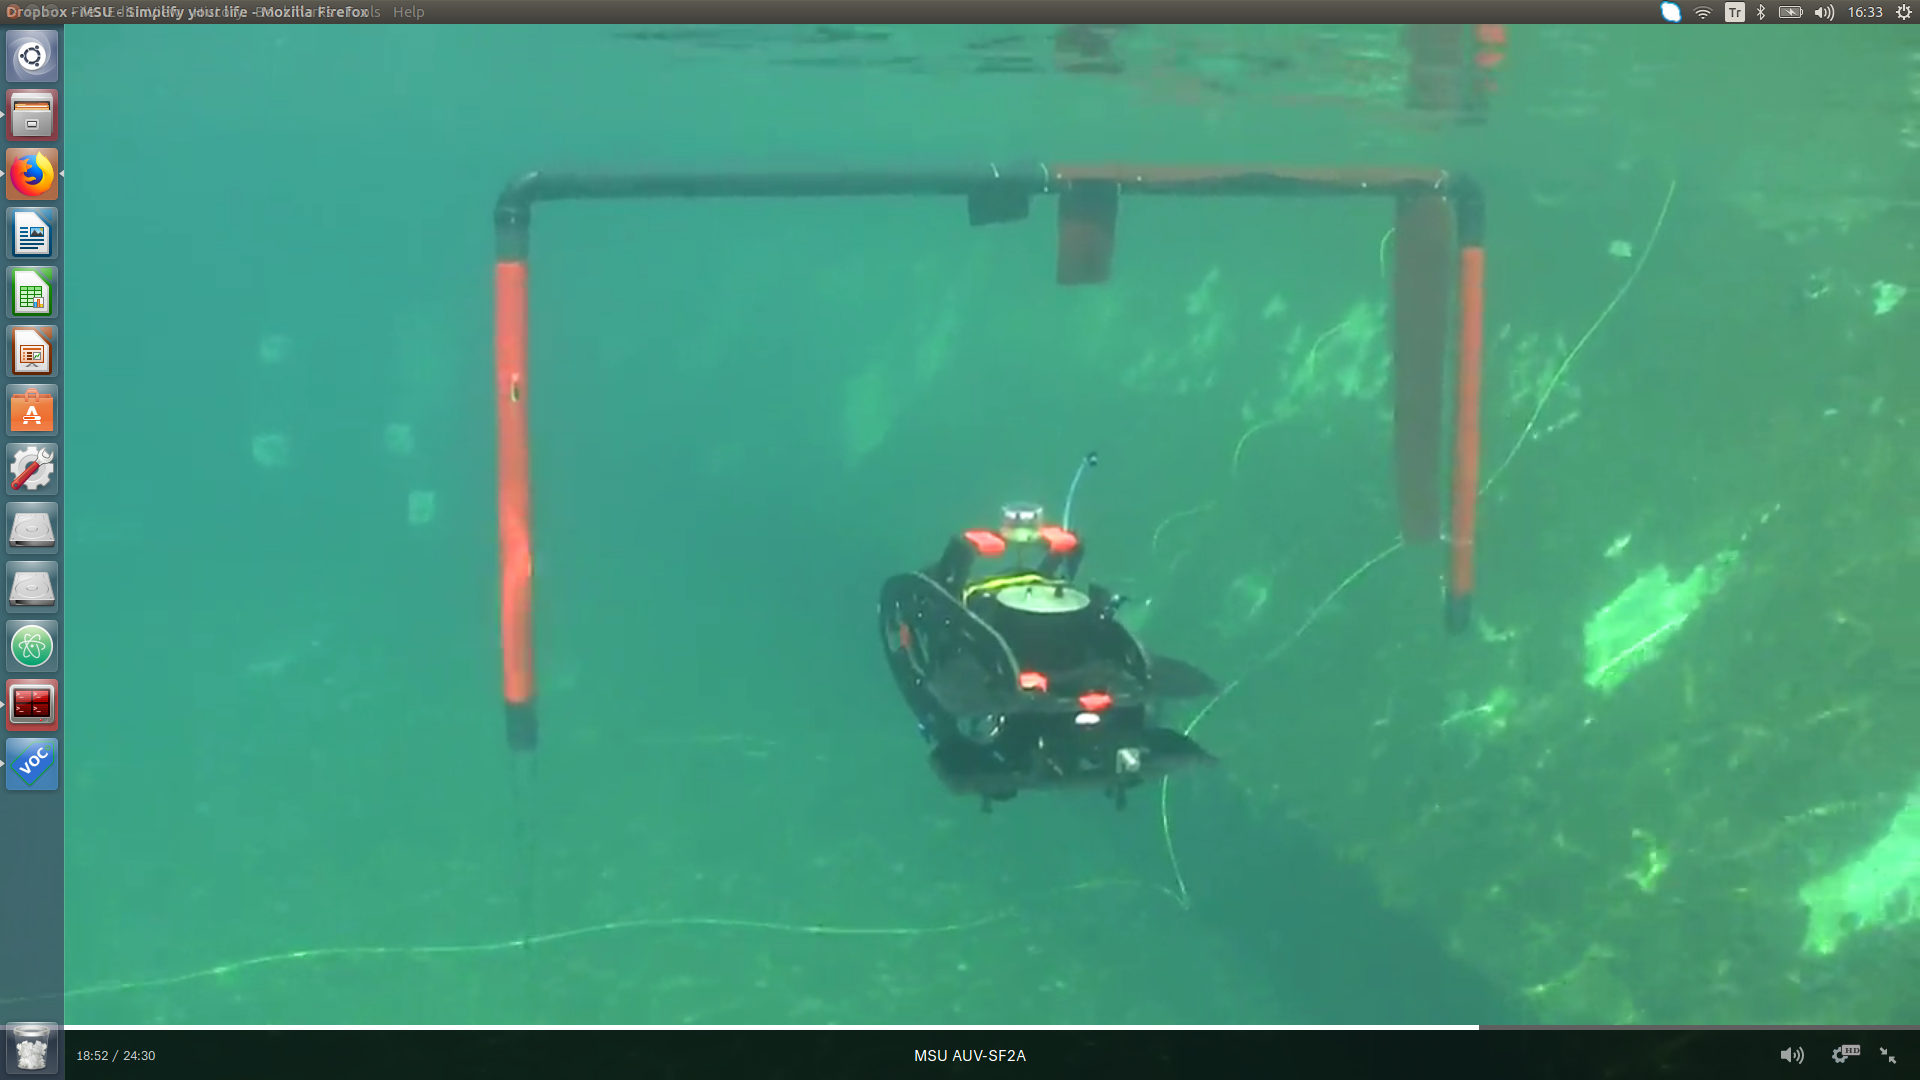gate: (472, 156, 1507, 578)
